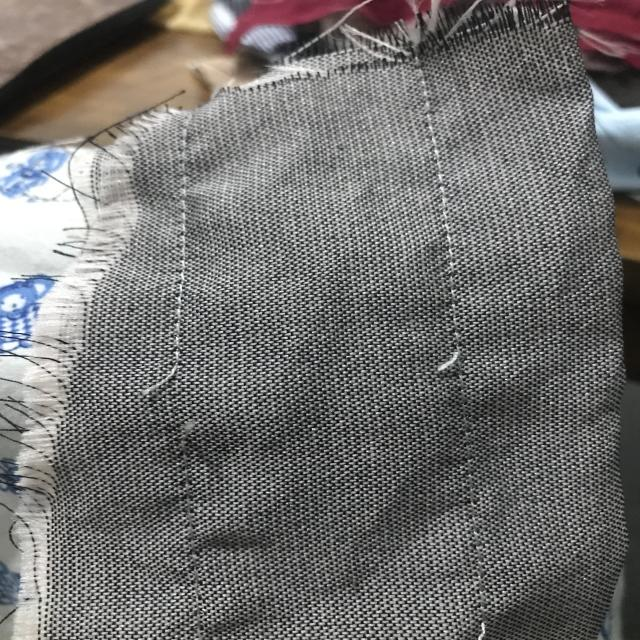broken: (138, 349, 215, 442)
